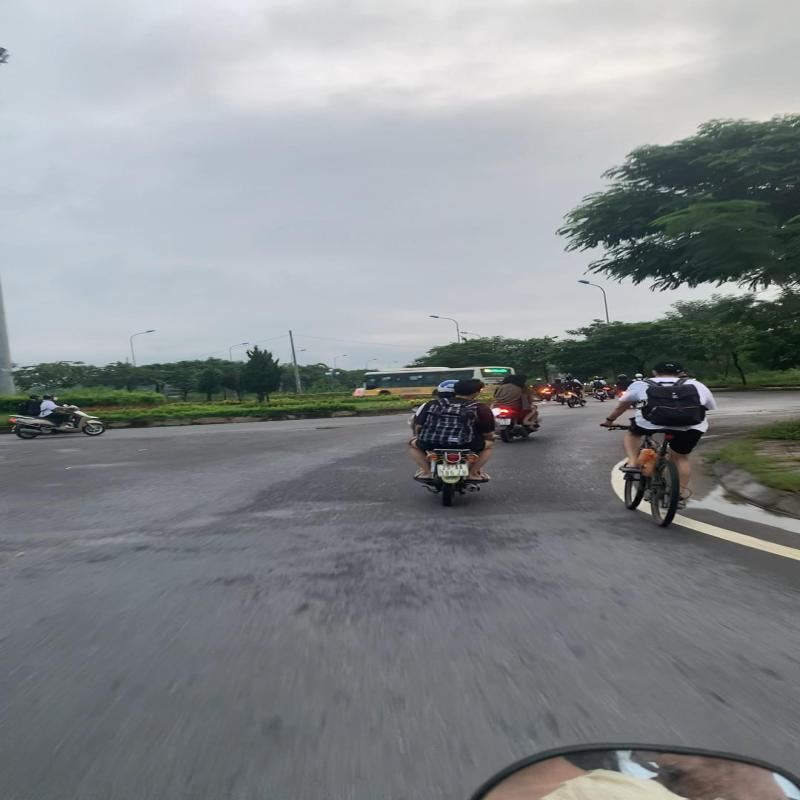helmet: (436, 378, 462, 395)
licenseplate: (436, 462, 472, 478)
motorcyclist: (404, 376, 504, 508)
nohelmet: (454, 378, 486, 398)
